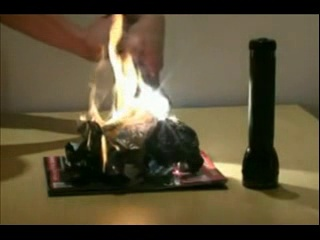fire: (87, 14, 136, 171)
smoke: (136, 69, 179, 123)
